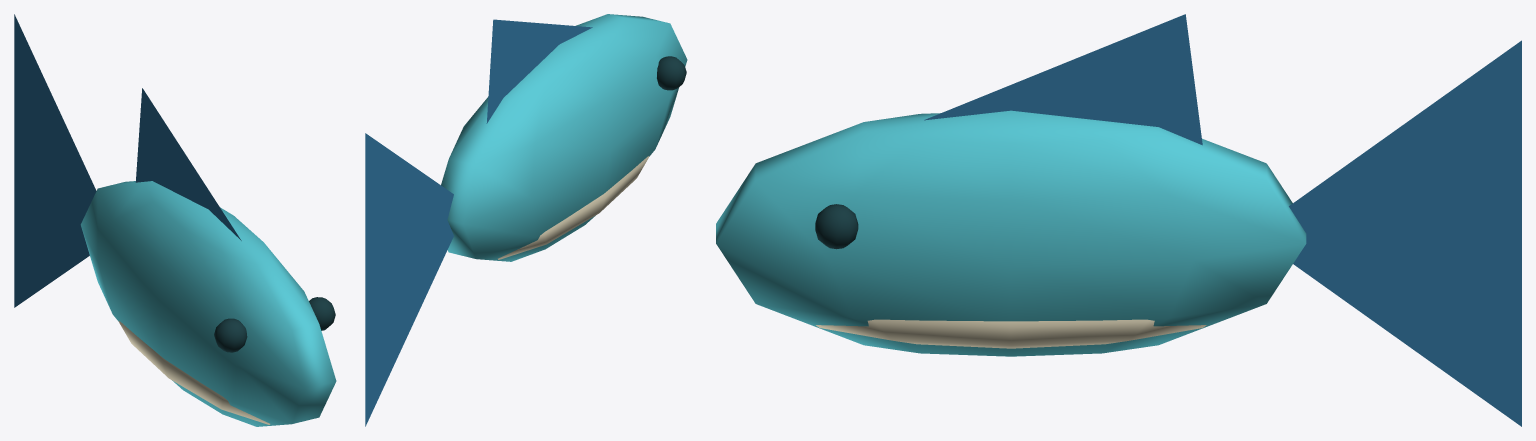
The model's file is ocean-fish-1.glb.
3 views of the same model, side by side, from view 1: azimuth 30°, elevation 25°; view 2: azimuth 150°, elevation 25°; view 3: azimuth 270°, elevation 25° (orthographic). The views are drawn at different scales.
Visible parts, largest first — view 1: object 1, Tail, object 3, object 4, object 5, object 6; view 2: object 1, Tail, object 3, object 4, object 5; view 3: object 1, Tail, object 3, object 4, object 6.
Boxes of the visible parts, left/top/right/bottom form: object 1: left=80, top=181, right=336, bottom=426; Tail: left=14, top=14, right=96, bottom=307; object 3: left=135, top=88, right=241, bottom=240; object 4: left=119, top=321, right=270, bottom=424; object 5: left=214, top=318, right=247, bottom=352; object 6: left=309, top=297, right=335, bottom=330; object 1: left=441, top=14, right=687, bottom=261; Tail: left=365, top=133, right=453, bottom=426; object 3: left=486, top=19, right=592, bottom=123; object 4: left=498, top=156, right=649, bottom=259; object 5: left=657, top=56, right=686, bottom=90; object 1: left=716, top=110, right=1306, bottom=356; Tail: left=1289, top=40, right=1521, bottom=426; object 3: left=924, top=14, right=1202, bottom=145; object 4: left=816, top=319, right=1206, bottom=348; object 6: left=815, top=204, right=858, bottom=249.
Bounding box in the file's own units: 0.276 × 0.705 × 1.25.
